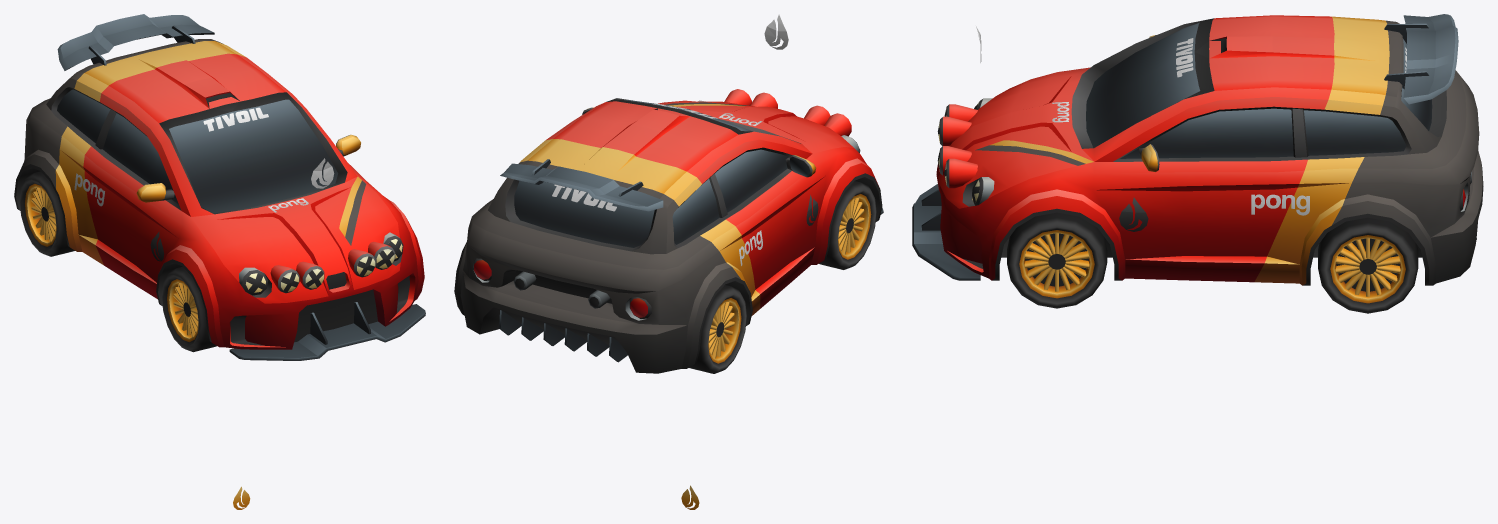
File: Rally_Car_2A.fbx
3 views of the same model, side by side, from view 1: azimuth 30°, elevation 25°; view 2: azimuth 150°, elevation 25°; view 3: azimuth 270°, elevation 25° (orthographic). The views are drawn at different scales.
Visible parts, largest first — view 1: Rally_Car_2A, Rally_Car_2A_Front_Skirt, Rally_Car_2A_Spoiler, Wheel_2A_R.R, Wheel_2A_F.R, Rally_Car_2A_Lights, Rally_Car_2A_Livery, Rally_Car_2A_Roof_Scoop; view 2: Rally_Car_2A, Wheel_2A_F.R, Wheel_2A_R.R, Rally_Car_2A_Spoiler, Rally_Car_2A_Diffuser, Rally_Car_2A_Lights, Rally_Car_2A_Livery, Rally_Car_2A_Roof_Scoop, Rally_Car_2A_Spoiler_Livery; view 3: Rally_Car_2A, Wheel_2A_R.L, Wheel_2A_F.L, Rally_Car_2A_Spoiler, Rally_Car_2A_Front_Skirt, Rally_Car_2A_Lights, Rally_Car_2A_Livery, Rally_Car_2A_Roof_Scoop.
Boxes of the visible parts, bbox=[...] form: Rally_Car_2A: bbox=[14, 39, 424, 349]; Rally_Car_2A_Front_Skirt: bbox=[229, 302, 425, 360]; Rally_Car_2A_Spoiler: bbox=[57, 14, 214, 70]; Wheel_2A_R.R: bbox=[19, 171, 74, 256]; Wheel_2A_F.R: bbox=[161, 266, 216, 352]; Rally_Car_2A_Lights: bbox=[270, 241, 395, 293]; Rally_Car_2A_Livery: bbox=[74, 107, 308, 261]; Rally_Car_2A_Roof_Scoop: bbox=[184, 77, 240, 108]; Rally_Car_2A: bbox=[454, 98, 882, 373]; Wheel_2A_F.R: bbox=[819, 181, 876, 269]; Wheel_2A_R.R: bbox=[689, 285, 746, 373]; Rally_Car_2A_Spoiler: bbox=[500, 159, 663, 211]; Rally_Car_2A_Diffuser: bbox=[499, 310, 627, 362]; Rally_Car_2A_Lights: bbox=[724, 89, 851, 136]; Rally_Car_2A_Livery: bbox=[552, 103, 818, 265]; Rally_Car_2A_Roof_Scoop: bbox=[632, 108, 689, 131]; Rally_Car_2A_Spoiler_Livery: bbox=[764, 14, 788, 49]; Rally_Car_2A: bbox=[936, 15, 1483, 285]; Wheel_2A_R.L: bbox=[1318, 217, 1418, 313]; Wheel_2A_F.L: bbox=[1007, 212, 1107, 308]; Rally_Car_2A_Spoiler: bbox=[1384, 14, 1458, 104]; Rally_Car_2A_Front_Skirt: bbox=[912, 184, 980, 280]; Rally_Car_2A_Lights: bbox=[937, 104, 977, 188]; Rally_Car_2A_Livery: bbox=[1052, 38, 1406, 231]; Rally_Car_2A_Roof_Scoop: bbox=[1209, 36, 1272, 58].
Size of the model in its own units: 2.67 by 4.46 by 4.78.
